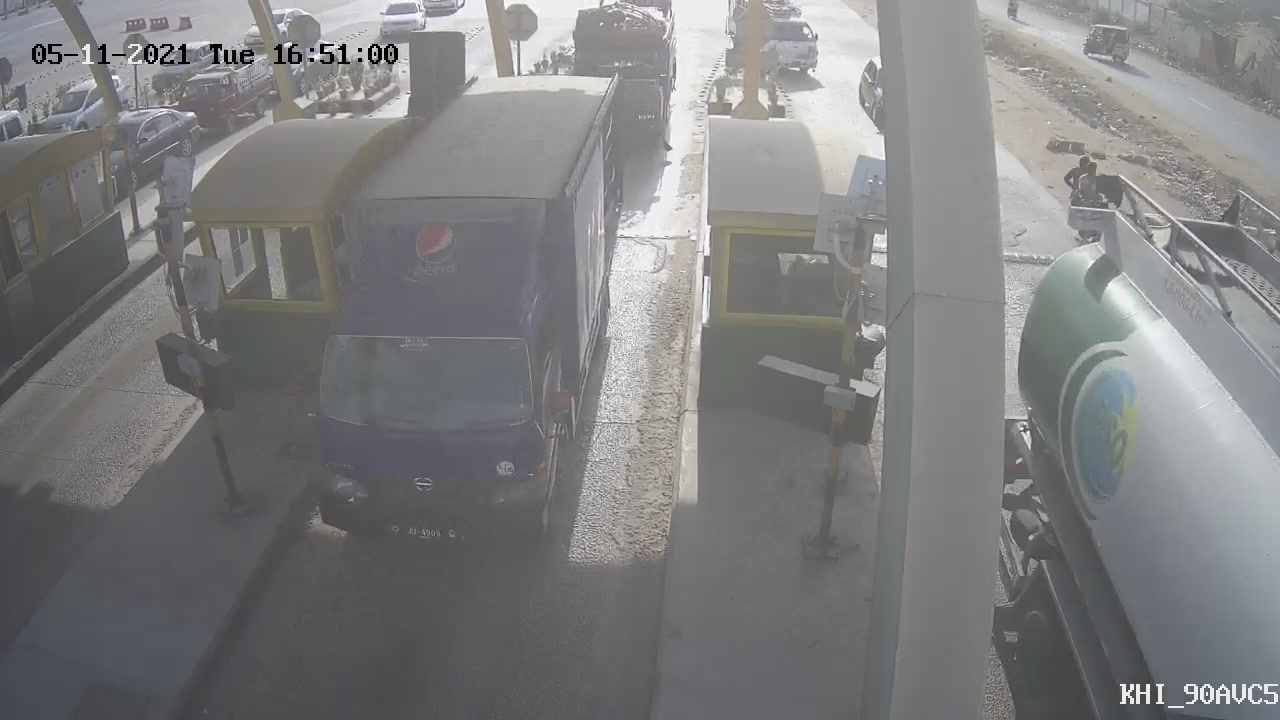F5: (266, 56, 665, 585)
